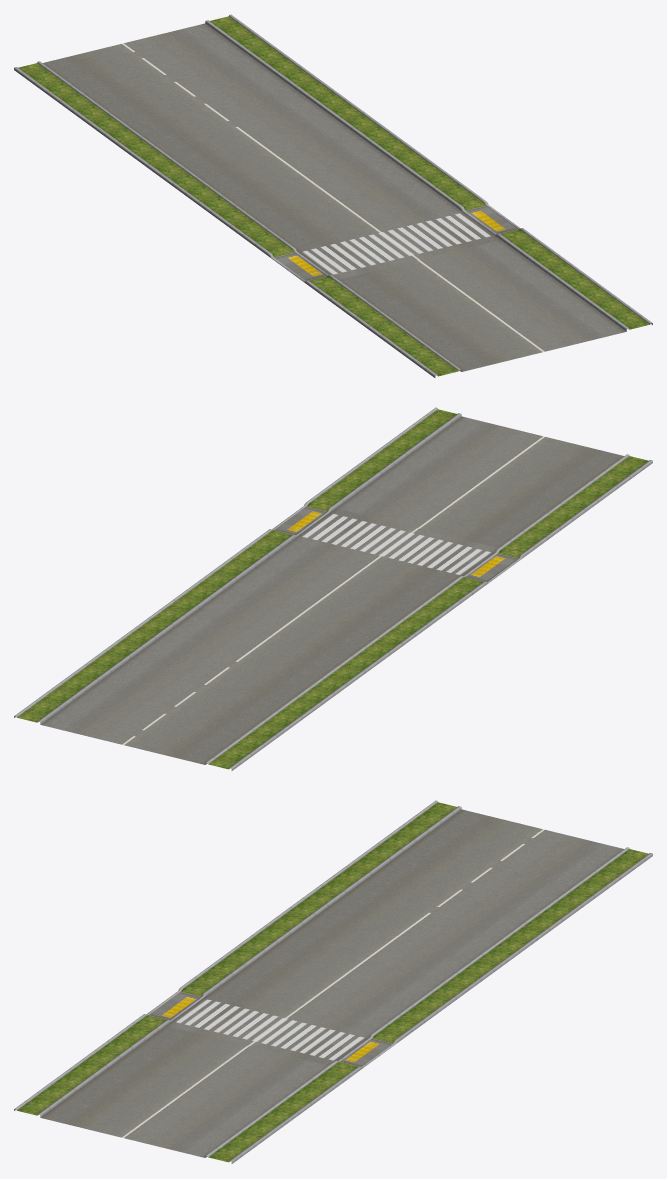
The model's file is RoadSamlpe.fbx.
3 views of the same model, one above another, from view 1: azimuth 30°, elevation 25°; view 2: azimuth 150°, elevation 25°; view 3: azimuth 330°, elevation 25° (orthographic).
Parts seen in each view (by area): view 1: Road2ContinuousLine001, Road2ContinuousLine, Road2IntermittentLine, Road2Line-Crosswalk01; view 2: Road2IntermittentLine, Road2ContinuousLine, Road2ContinuousLine001, Road2Line-Crosswalk01; view 3: Road2ContinuousLine001, Road2ContinuousLine, Road2IntermittentLine, Road2Line-Crosswalk01.
Boxes of the visible parts, box(x1,y1,x2,y2) form: Road2ContinuousLine001: box(309, 231, 652, 377); Road2ContinuousLine: box(139, 106, 481, 253); Road2IntermittentLine: box(14, 14, 356, 161); Road2Line-Crosswalk01: box(265, 198, 526, 285); Road2IntermittentLine: box(14, 624, 357, 770); Road2ContinuousLine: box(140, 532, 482, 678); Road2ContinuousLine001: box(310, 407, 652, 554); Road2Line-Crosswalk01: box(266, 499, 527, 586); Road2ContinuousLine001: box(14, 1017, 357, 1163); Road2ContinuousLine: box(185, 892, 527, 1039); Road2IntermittentLine: box(310, 800, 652, 947); Road2Line-Crosswalk01: box(140, 984, 401, 1071).
Bounding box in the file's own units: 15.8 × 0.179 × 53.
